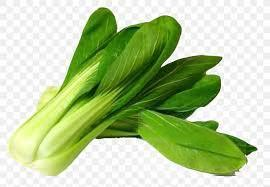Healthy-Pechay: (12, 5, 256, 178), (64, 7, 117, 91), (115, 24, 162, 85), (99, 26, 140, 65), (147, 60, 188, 82), (82, 20, 106, 43)
